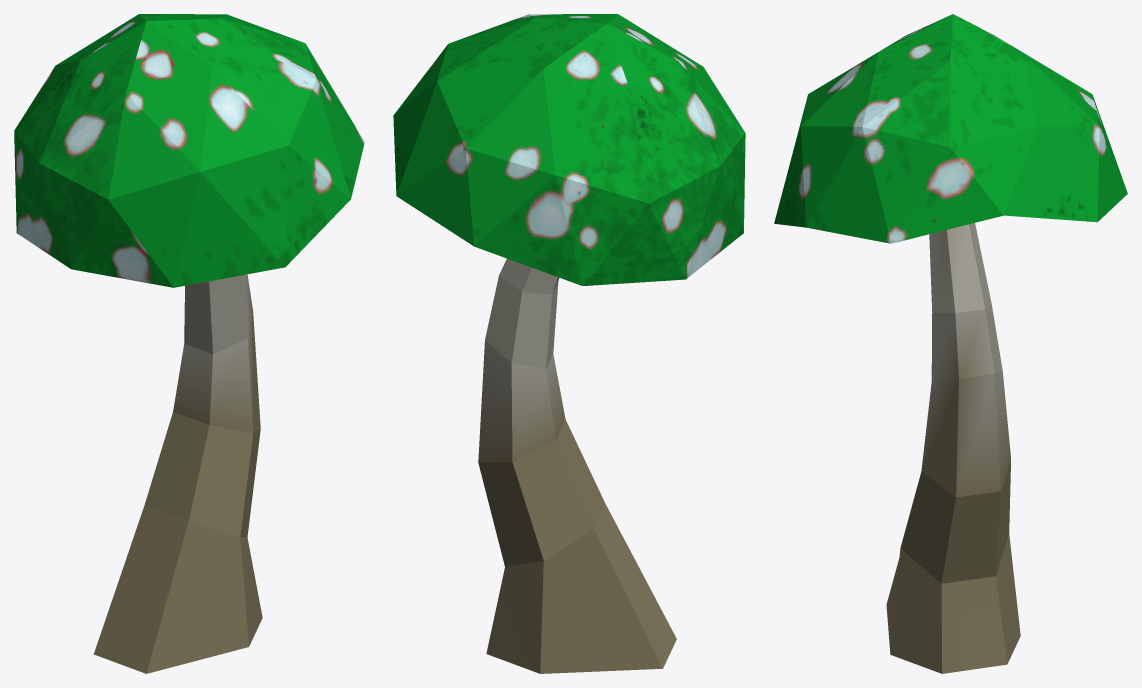
Rendered from cogumeloverde.fbx.
3 renders of one model, left to right at view 1: azimuth 30°, elevation 25°; view 2: azimuth 150°, elevation 25°; view 3: azimuth 270°, elevation 25°, orthographic. The views are drawn at different scales.
Parts seen in each view (by area): view 1: Cylinder.008; view 2: Cylinder.008; view 3: Cylinder.008.
Boxes of the visible parts, x1,y1,x2,y2 form: Cylinder.008: (14, 14, 364, 673); Cylinder.008: (393, 14, 745, 673); Cylinder.008: (774, 14, 1127, 673).
Size of the model in its own units: 86.93 by 174 by 92.02.
